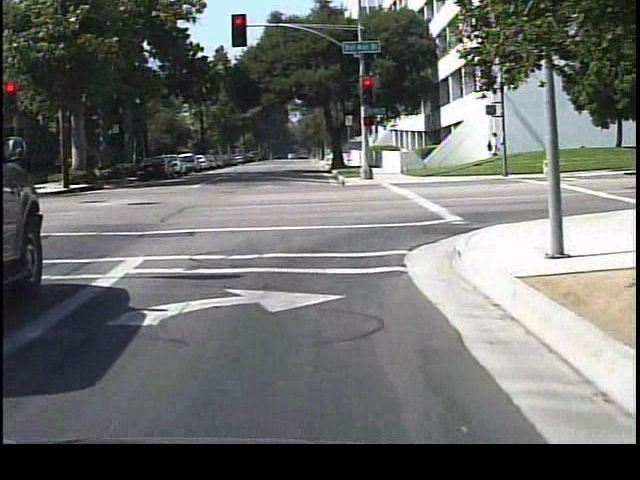person: (479, 128, 503, 173)
